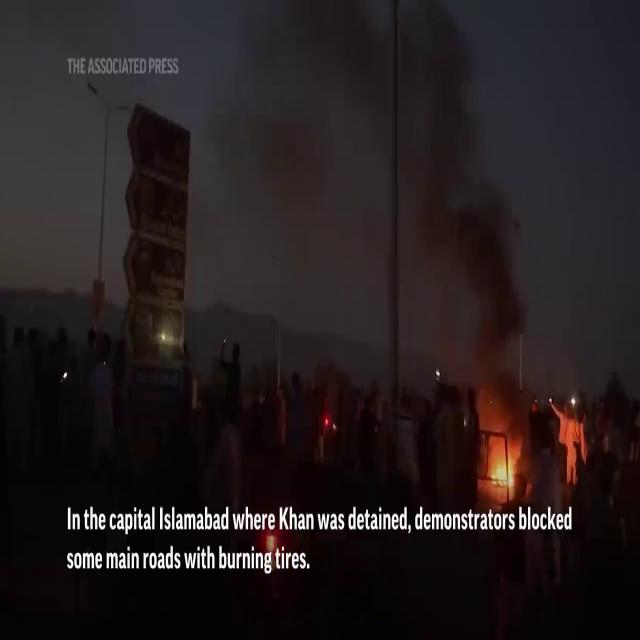Fire: (484, 434, 522, 504)
Smoke: (201, 1, 527, 371)
